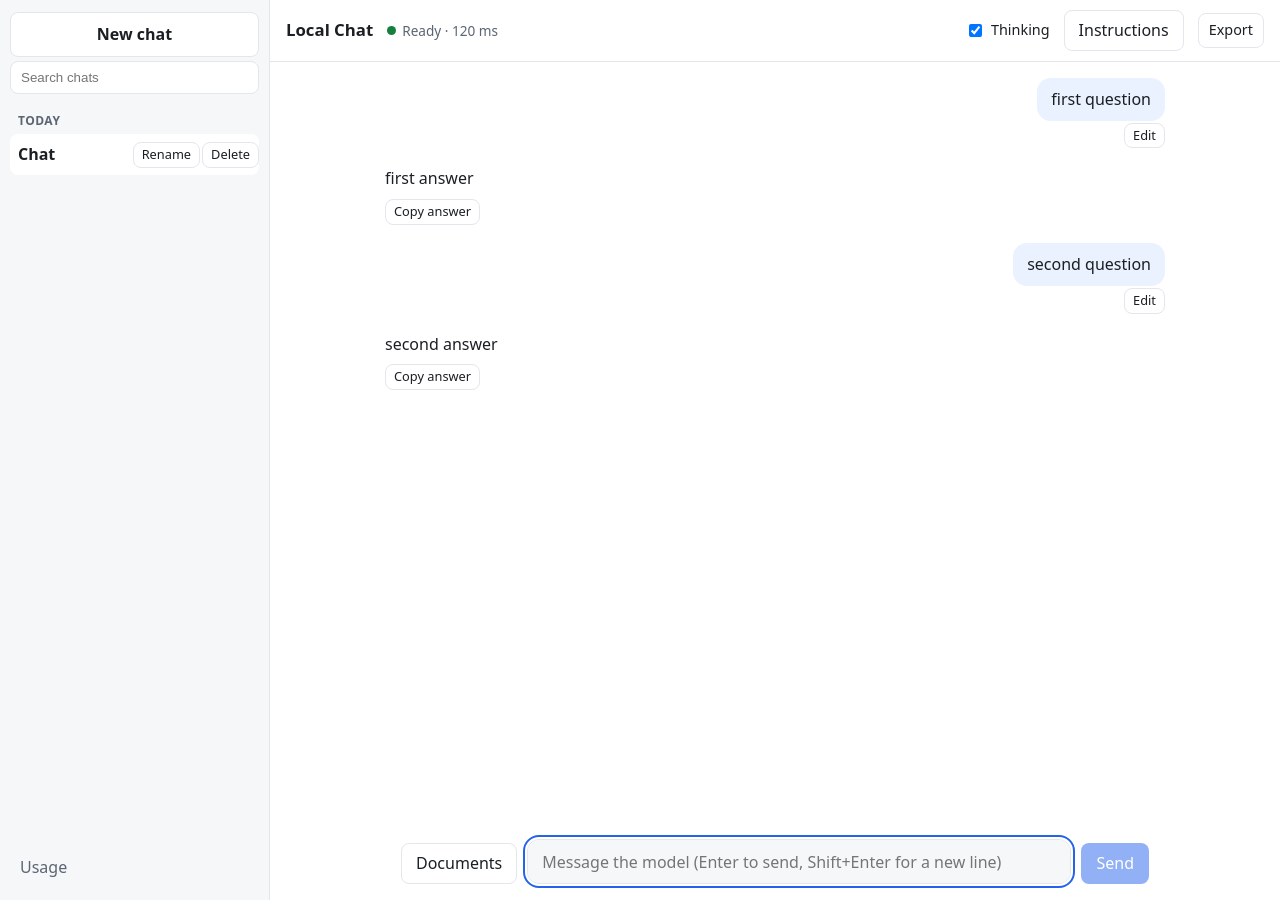
Test: editing a message › shows what the server still has when it refuses the edit
The image size is (1280, 900).
Check: the text "second answer" is shown, box x1=385 y1=333 x2=498 y2=355
Click the button "Edit" below "first question".
click(1145, 136)  # box x1=1124 y1=123 x2=1165 y2=148
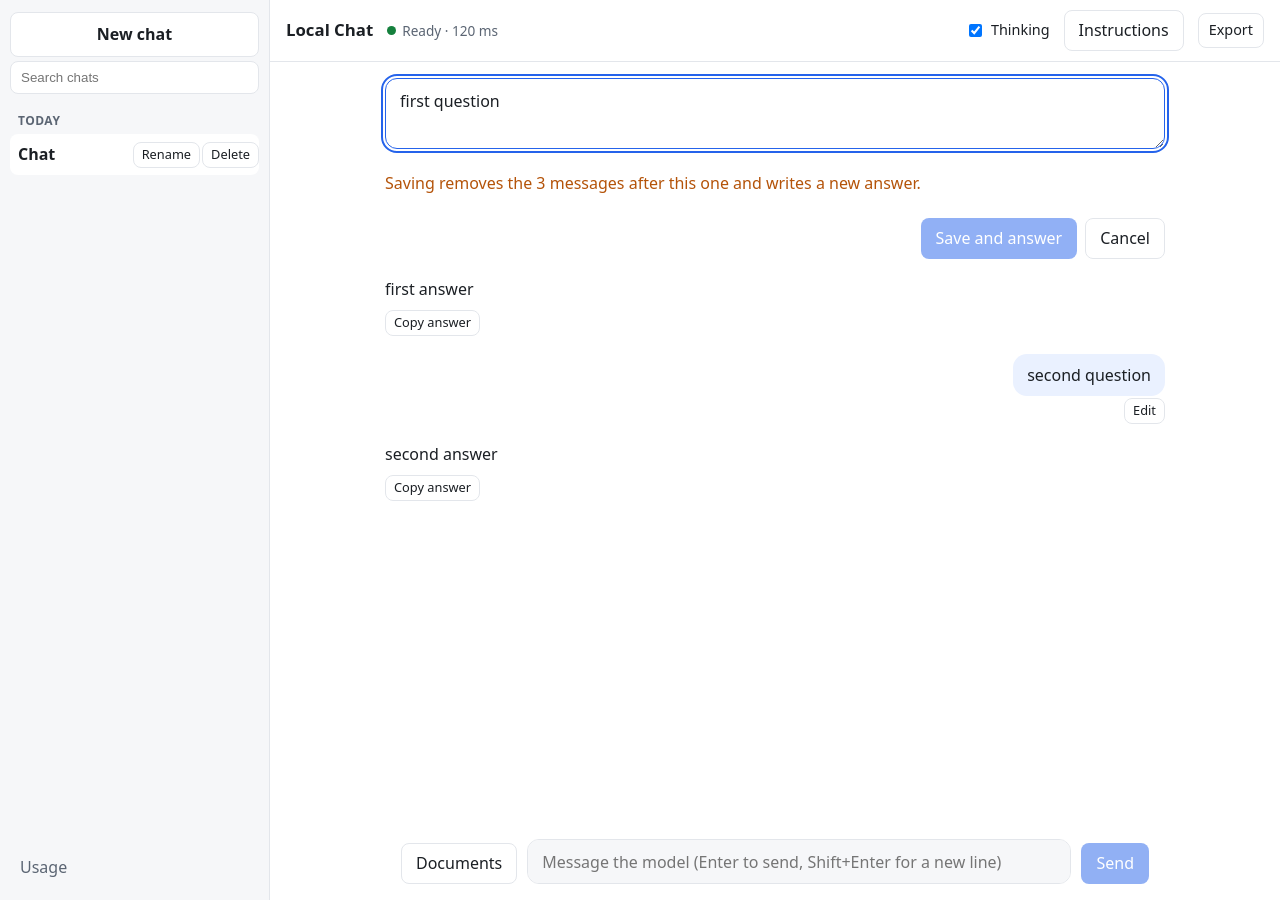
Replace the text in the text box named "Edit message" with "changed" at (775, 114), box x1=385 y1=78 x2=1165 y2=149
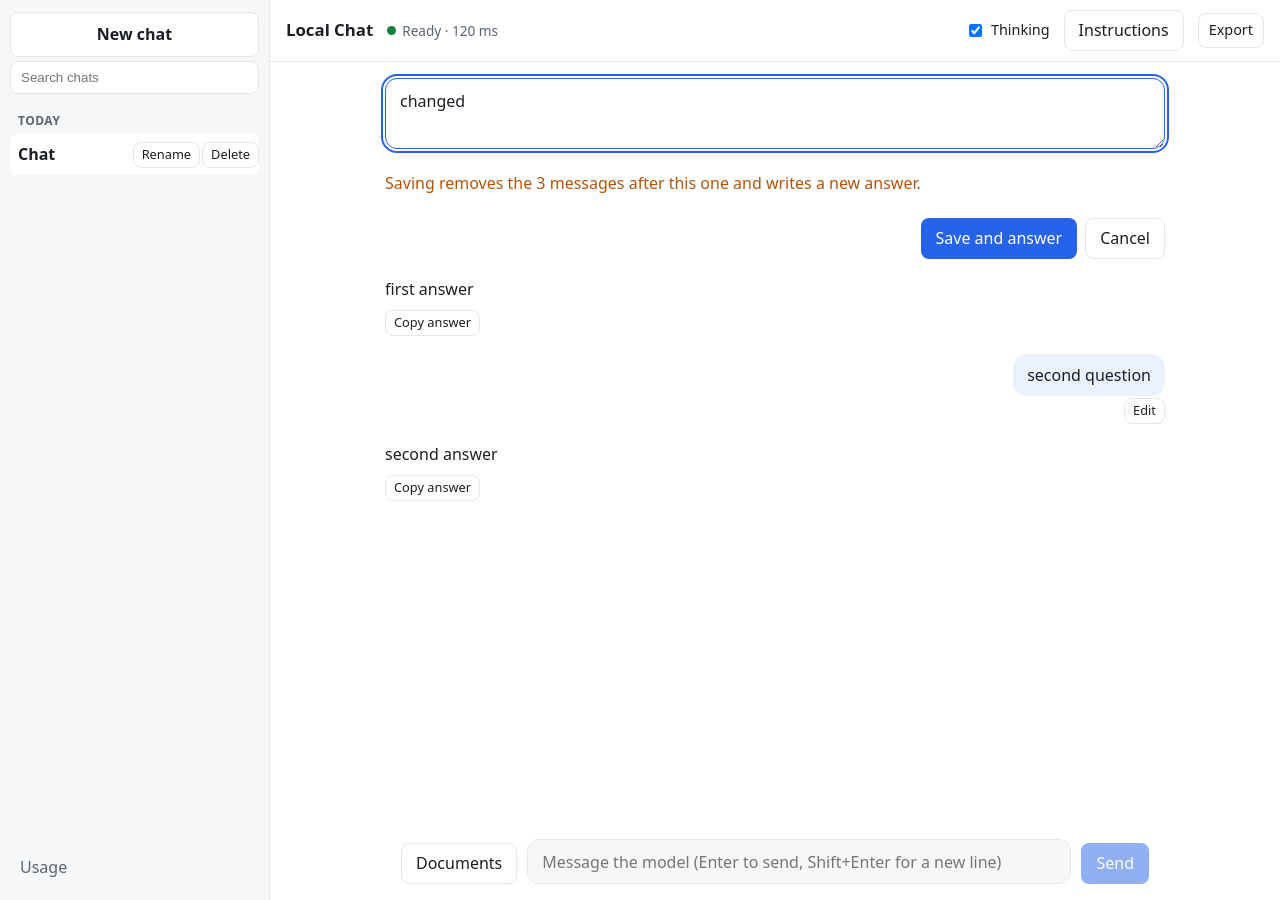
Click the button "Save and answer".
click(999, 239)  # box x1=920 y1=218 x2=1077 y2=259
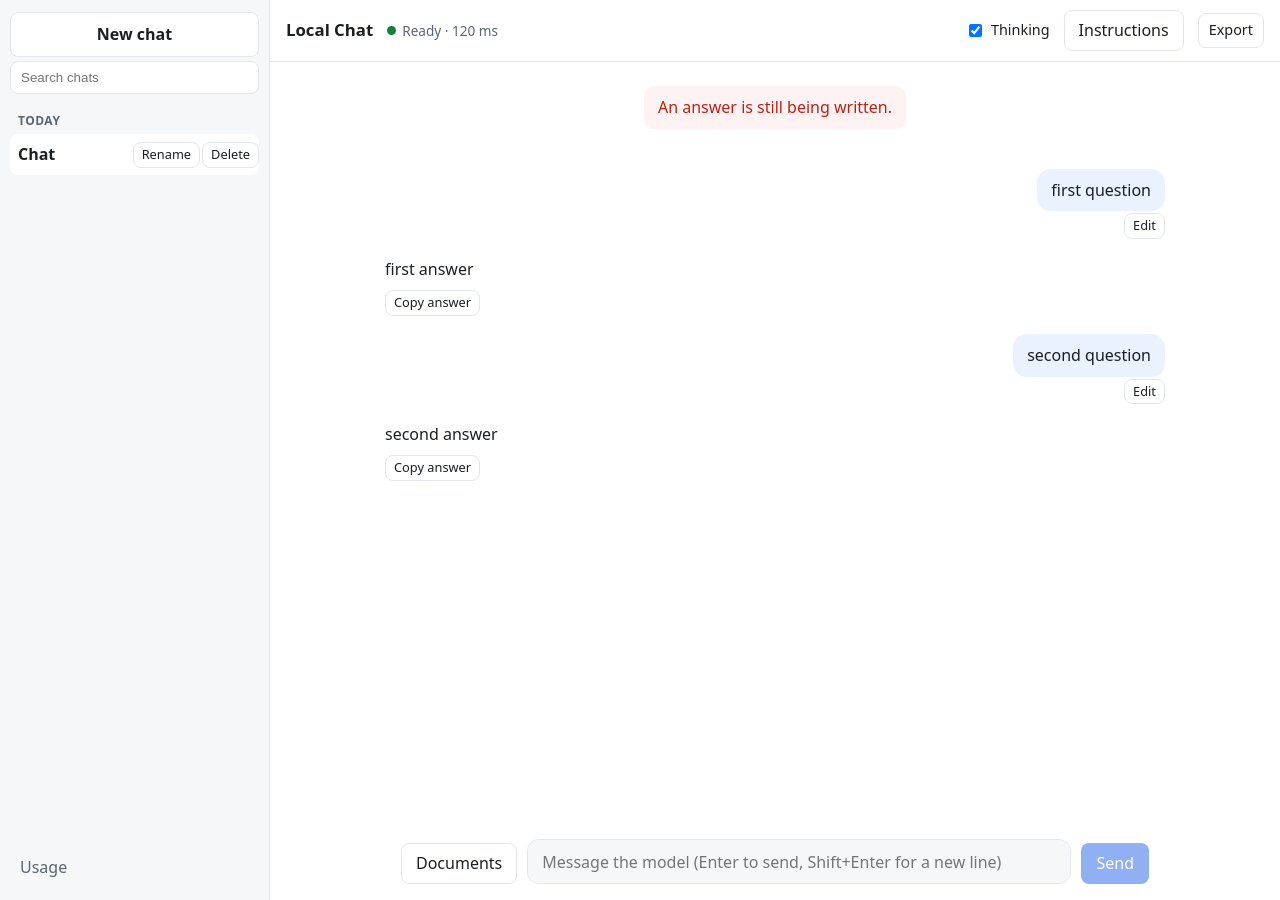
Check: the text "second answer" is shown, box x1=385 y1=424 x2=498 y2=446
Check: the text "An answer is still being written." is shown, box x1=644 y1=86 x2=906 y2=129
Check: the text "first question" is shown, box x1=1037 y1=169 x2=1165 y2=211
